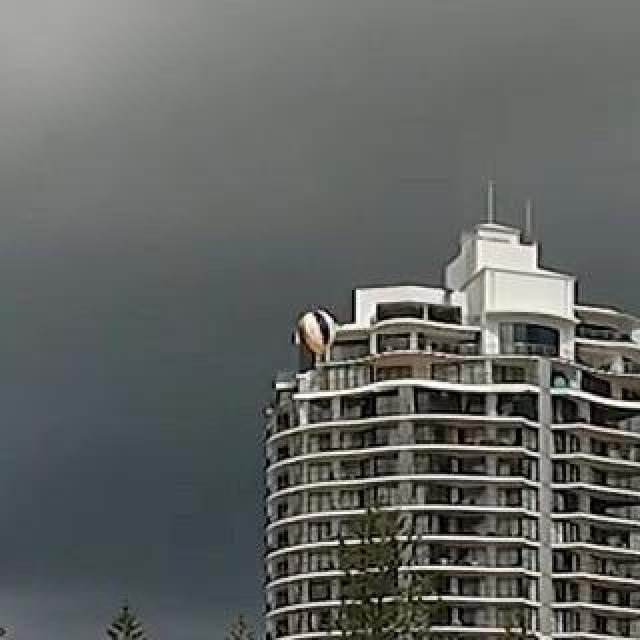volleyball: (299, 312, 337, 352)
